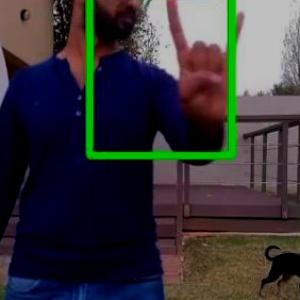takeoff-hand: (162, 0, 254, 135)
